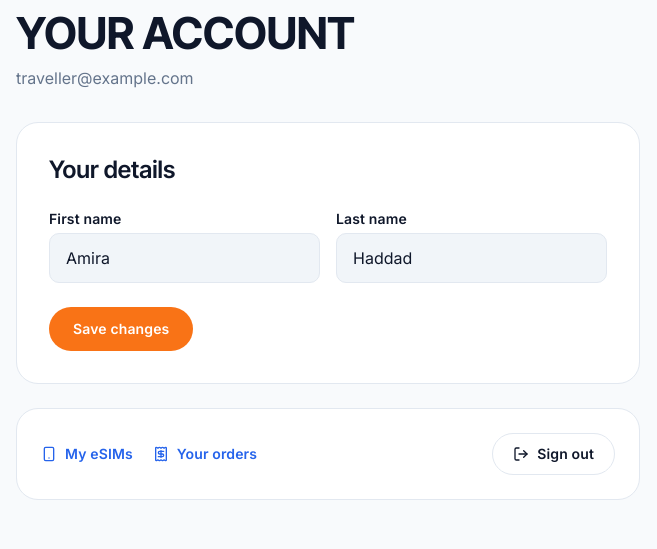
Test: saving › confirms a successful save
Expected: the 1st field named "first name" holds "Amira", [49,233,320,283]
Click the 1st button named "save" at (121, 329), box [49,307,193,351]
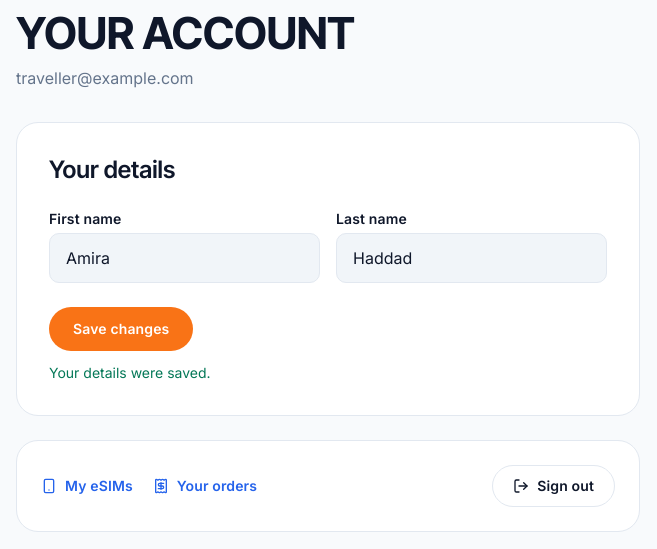
Expected: the message is shown, [49,364,211,381]
